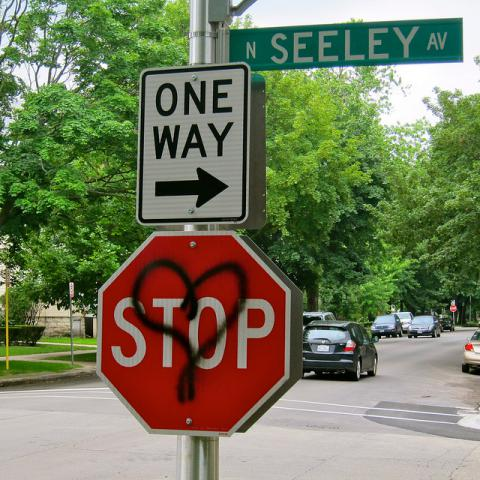car: (302, 319, 379, 380), (461, 328, 479, 374), (370, 314, 403, 338), (408, 315, 441, 338), (302, 312, 337, 332), (389, 312, 414, 334), (443, 322, 454, 332)
